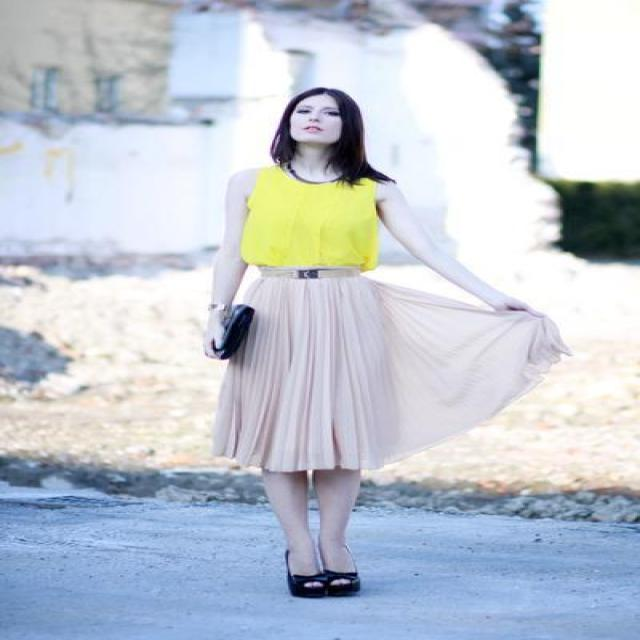bag: (213, 307, 253, 358)
shirt: (240, 167, 387, 266)
shoe: (288, 568, 358, 598)
skirt: (205, 269, 570, 472)
